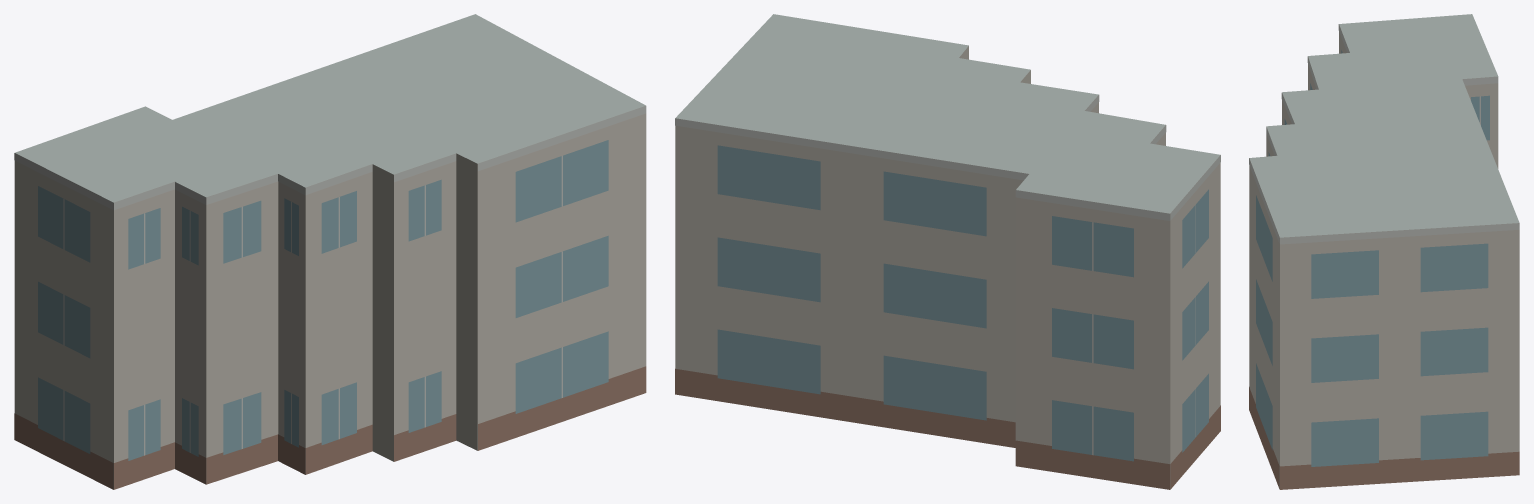
File: survey-upis-32761047.glb
The picture shows the model from 3 angles, left to right: view 1: azimuth 30°, elevation 25°; view 2: azimuth 150°, elevation 25°; view 3: azimuth 270°, elevation 25°; orthographic projection. The views are drawn at different scales.
Parts seen in each view (by area): view 1: survey-upis-32761047.tmp; view 2: survey-upis-32761047.tmp; view 3: survey-upis-32761047.tmp.
Part boxes in pixels (x1,y1,x2,y2): survey-upis-32761047.tmp: (14,14,646,489); survey-upis-32761047.tmp: (675,14,1220,489); survey-upis-32761047.tmp: (1249,14,1519,489).
Size of the model in its own units: 17.32 by 9.1 by 8.85.
